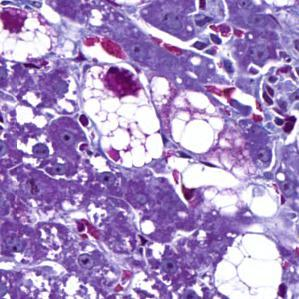ballooning: (81, 58, 167, 170), (210, 230, 286, 297), (165, 87, 227, 158), (2, 3, 54, 65)
